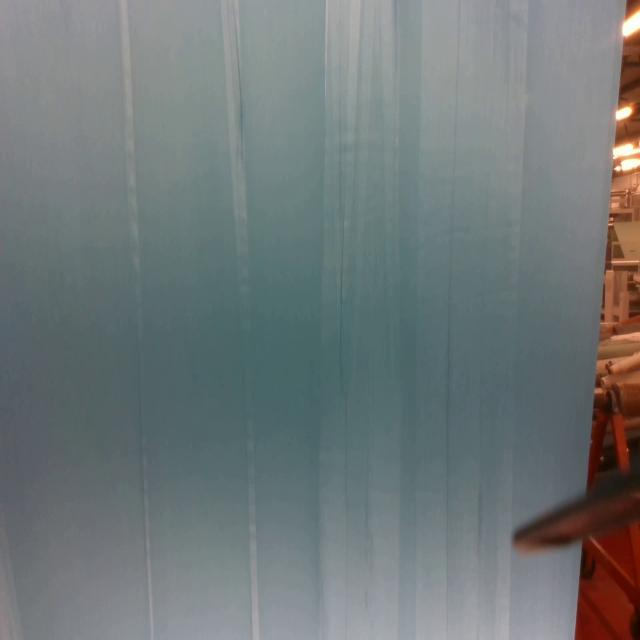crease: (320, 0, 403, 636), (221, 0, 259, 637), (120, 0, 154, 635), (442, 0, 464, 639), (474, 360, 487, 640)
